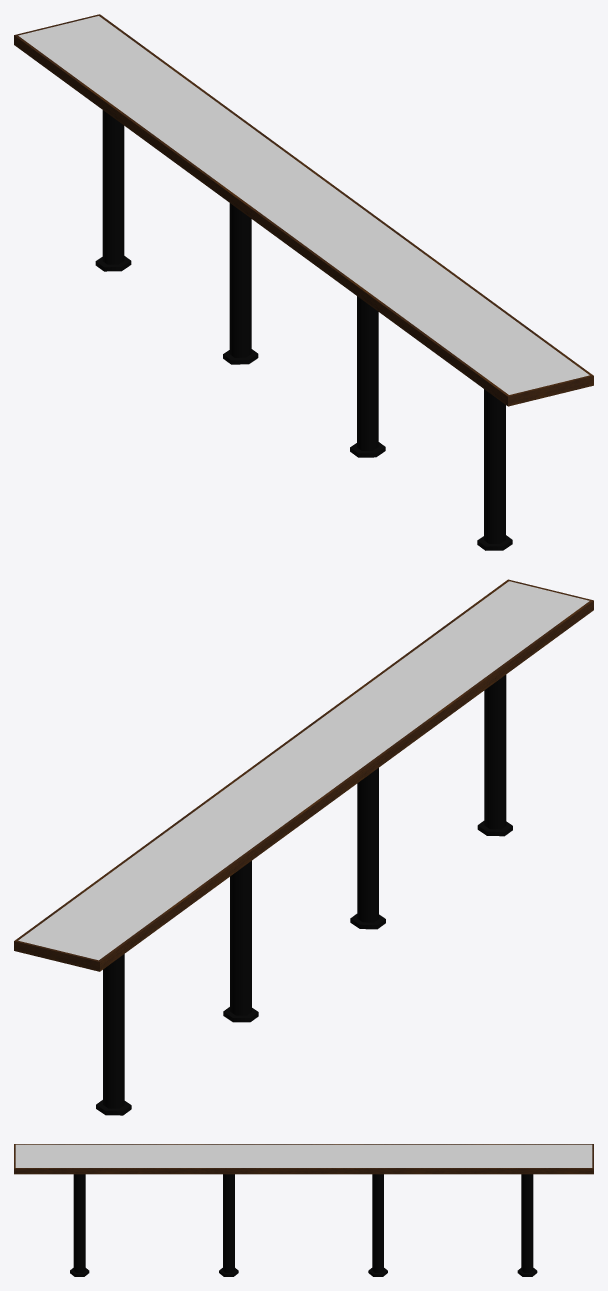
The model's file is int_table_b_001.FBX.
3 views of the same model, one above another, from view 1: azimuth 30°, elevation 25°; view 2: azimuth 150°, elevation 25°; view 3: azimuth 270°, elevation 25° (orthographic). The views are drawn at different scales.
Parts seen in each view (by area): view 1: int_table_b_001; view 2: int_table_b_001; view 3: int_table_b_001.
Boxes of the visible parts, bbox=[...] form: int_table_b_001: bbox=[14, 14, 593, 550]; int_table_b_001: bbox=[14, 579, 593, 1115]; int_table_b_001: bbox=[14, 1144, 593, 1276].
Bounding box in the file's own units: 51.56 × 114 × 514.
